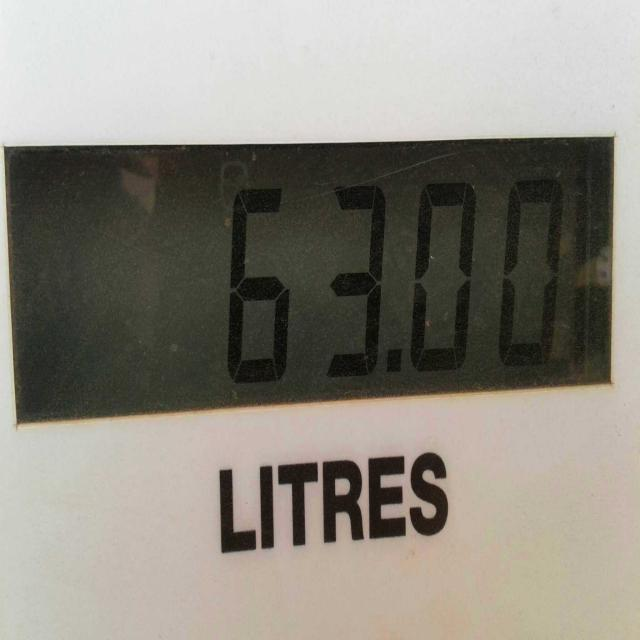.: (375, 322, 410, 402)
0: (400, 165, 486, 394), (493, 168, 571, 392)
3: (314, 165, 392, 400)
6: (216, 168, 307, 394)
